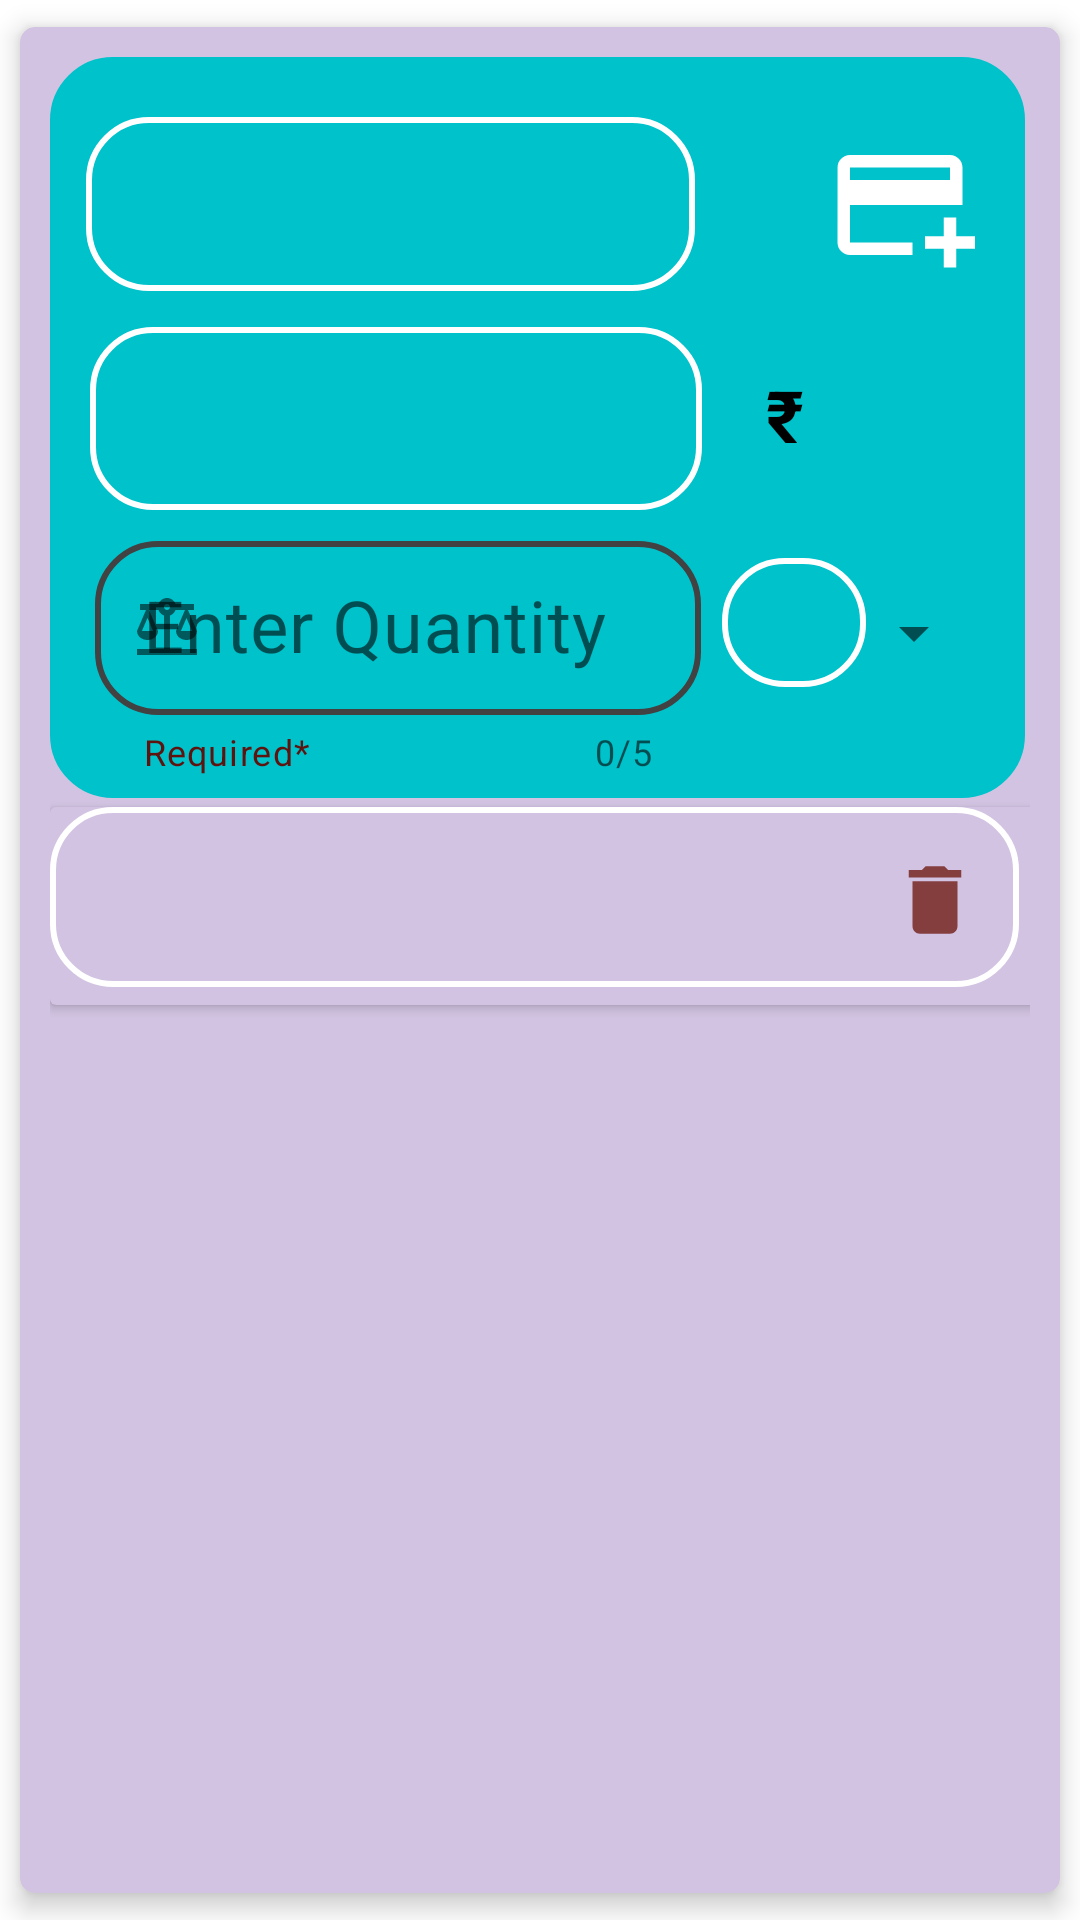

Where to tap for icons on this 1080*1920 app screen, as (x,y):
delete: (935,900)
